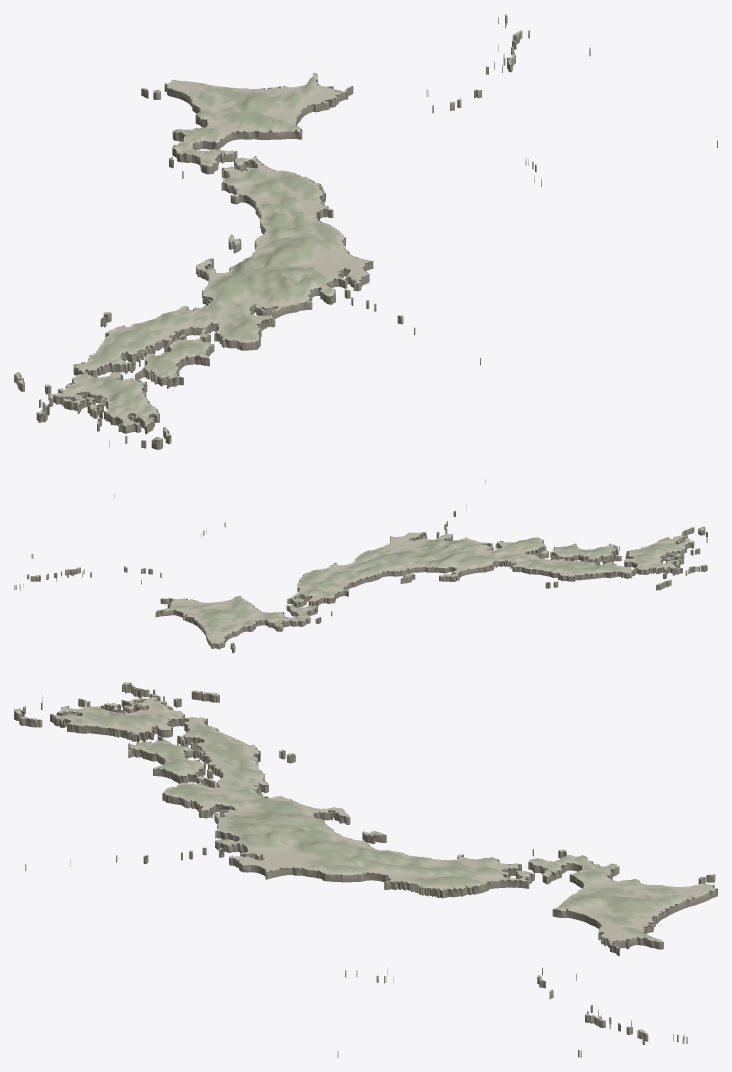
Rendered from jp-desktop.glb.
3 renders of one model, top to bottom at view 1: azimuth 30°, elevation 25°; view 2: azimuth 150°, elevation 25°; view 3: azimuth 270°, elevation 25°, orthographic. The views are drawn at different scales.
Bounding box in the file's own units: 124 × 2.24 × 100.
